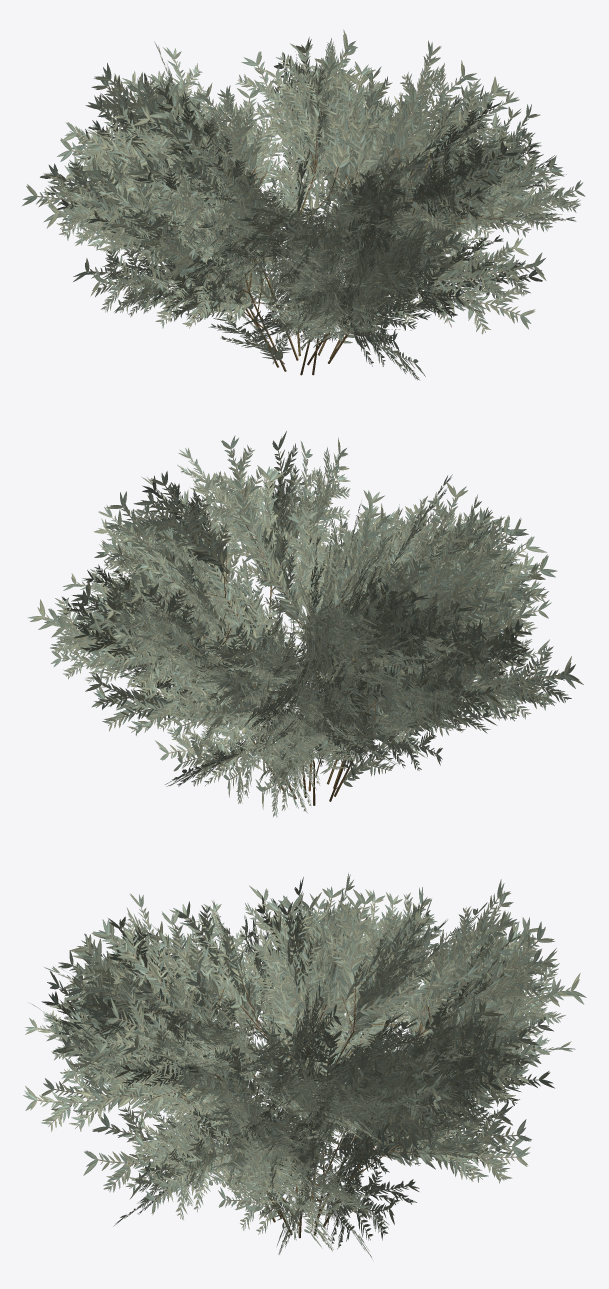
File: sagebrush_grey_v01_LOD1.glb
3 renders of one model, top to bottom at view 1: azimuth 30°, elevation 25°; view 2: azimuth 150°, elevation 25°; view 3: azimuth 270°, elevation 25°, orthographic. The views are drawn at different scales.
Parts seen in each view (by area): view 1: sagebrush_grey_v01_LOD1; view 2: sagebrush_grey_v01_LOD1; view 3: sagebrush_grey_v01_LOD1.
Part boxes in pixels (bbox=[...]): sagebrush_grey_v01_LOD1: bbox=[22, 29, 585, 380]; sagebrush_grey_v01_LOD1: bbox=[27, 431, 583, 817]; sagebrush_grey_v01_LOD1: bbox=[23, 873, 586, 1259].
Size of the model in its own units: 1.17 by 0.65 by 1.03.
2 materials, 2 textured.
